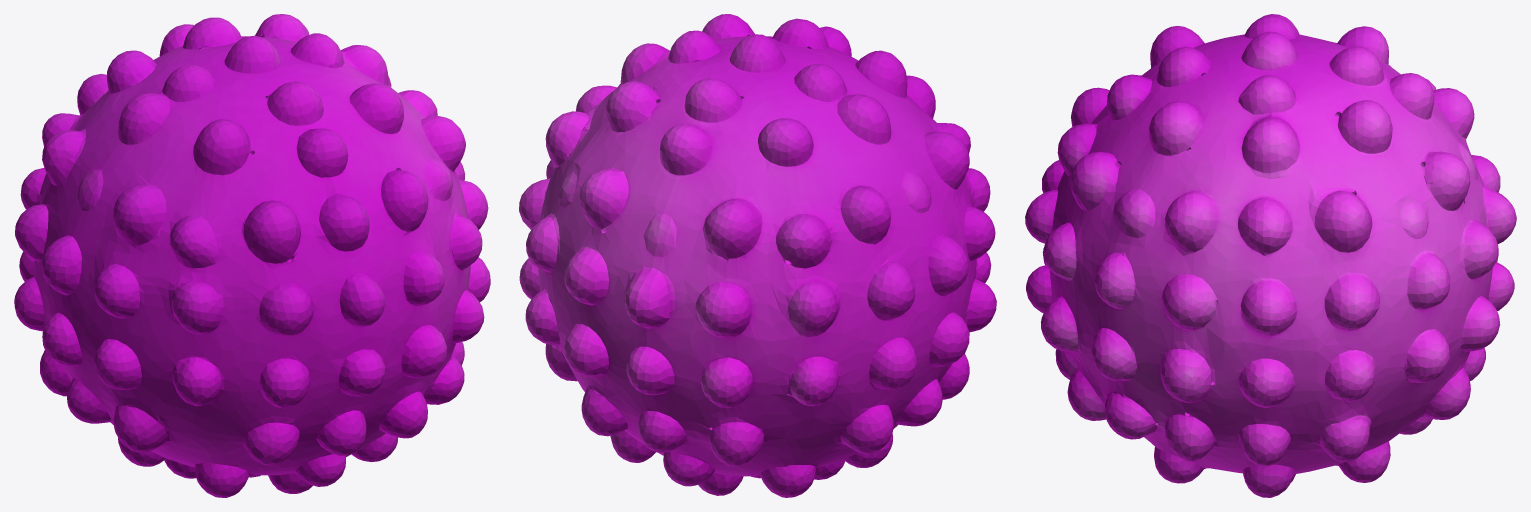
The model's file is purple_ball.glb.
3 renders of one model, left to right at view 1: azimuth 30°, elevation 25°; view 2: azimuth 150°, elevation 25°; view 3: azimuth 270°, elevation 25°, orthographic.
Visible parts, largest first — view 1: world; view 2: world; view 3: world.
Boxes of the visible parts, x1,y1,x2,y2 form: world: [14, 14, 490, 497]; world: [519, 14, 996, 497]; world: [1025, 14, 1516, 497].
Size of the model in its own units: 0.9772 by 0.9828 by 0.9913.
1 material, 1 textured.
